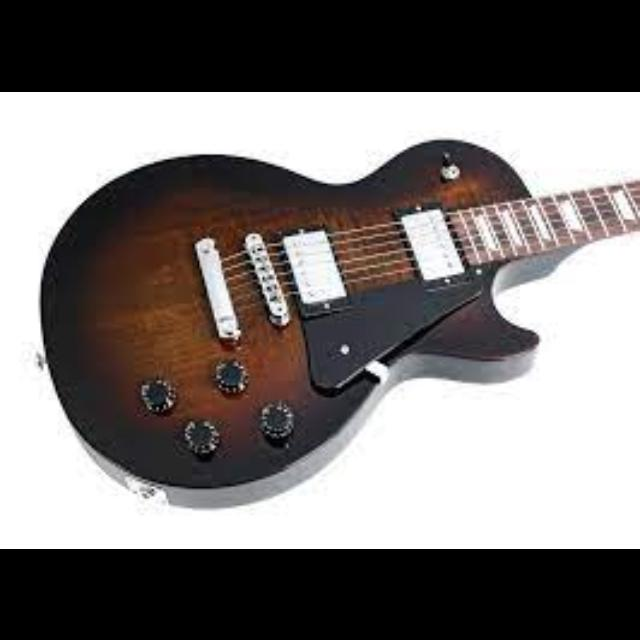Electric-Guitar: (40, 140, 640, 504)
